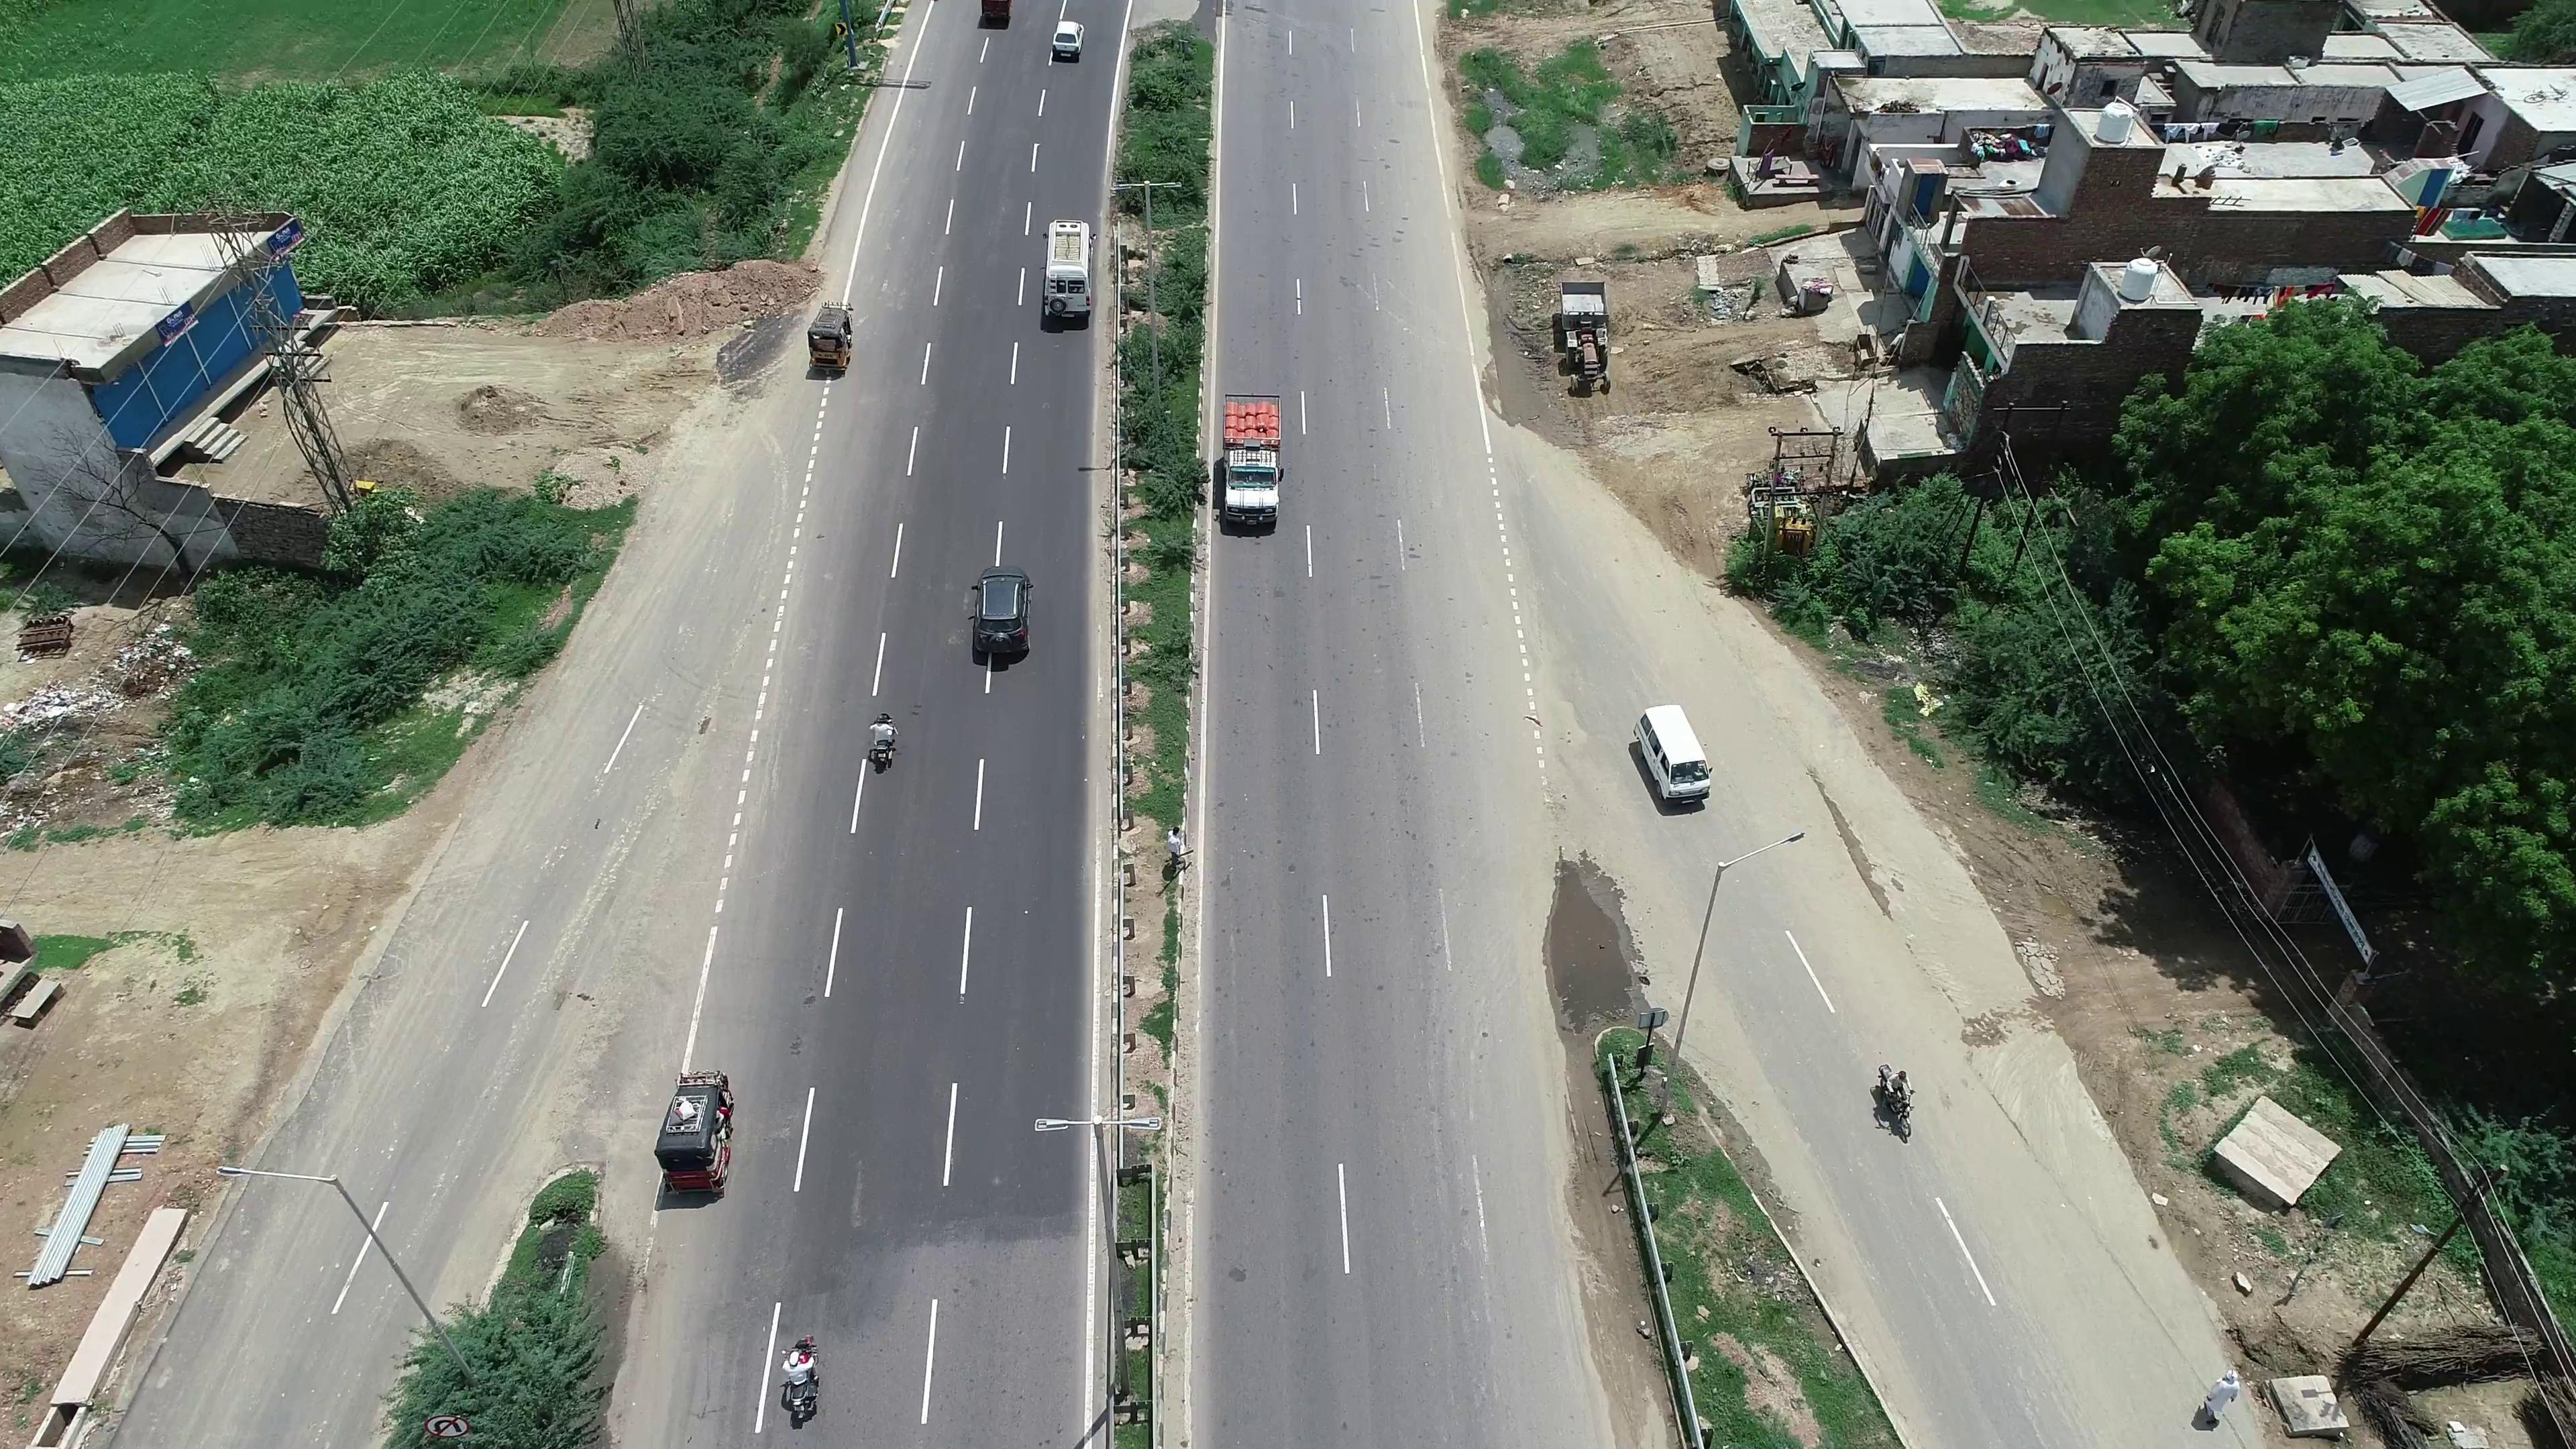Waterlogging: (1525, 863, 1633, 1023)
